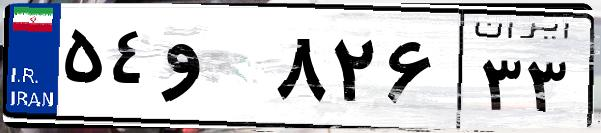2: (330, 28, 385, 110)
3: (475, 38, 525, 113), (525, 38, 570, 115)
4: (110, 28, 158, 98)
5: (57, 26, 110, 100)
6: (385, 28, 445, 110)
8: (270, 28, 330, 110)
و: (158, 20, 270, 120)
